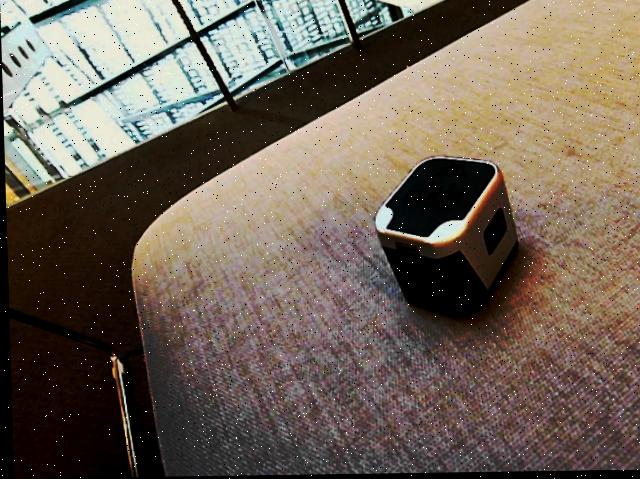adapter: (371, 155, 519, 321)
